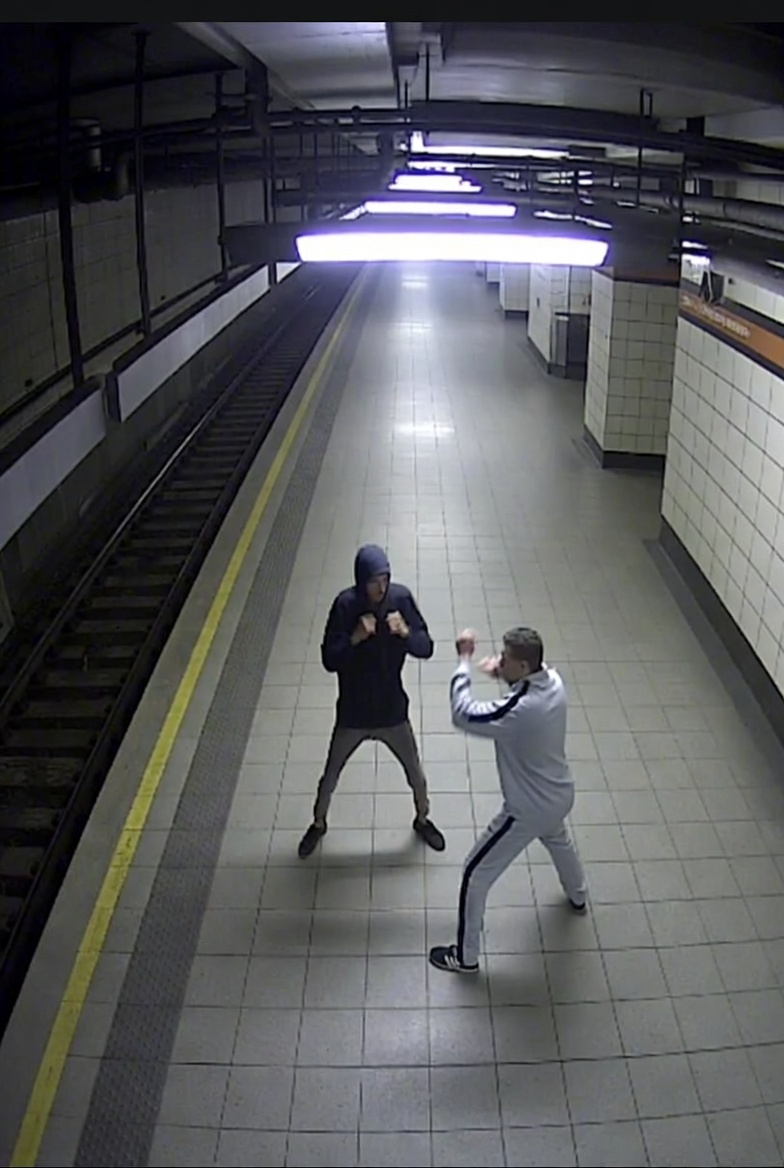Assault: (298, 544, 447, 861)
Fighting: (428, 624, 592, 974)
